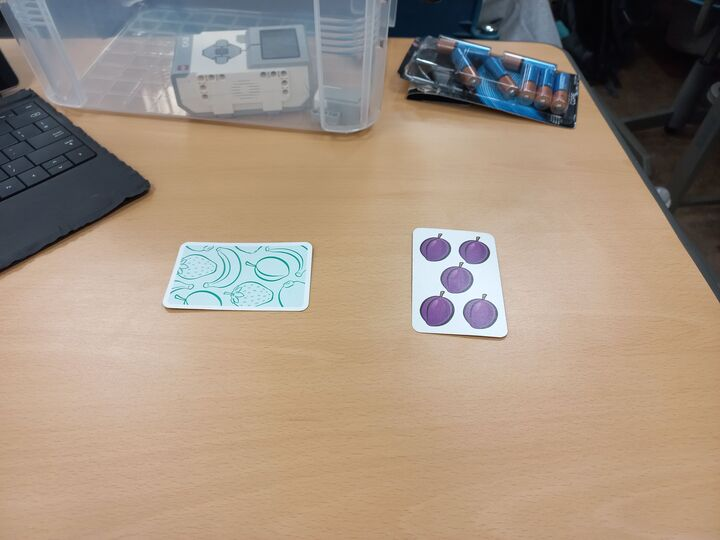plum5: (408, 225, 509, 338)
